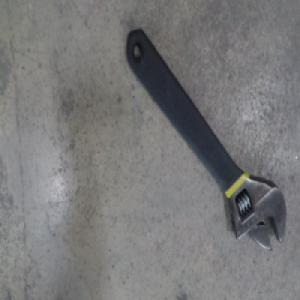AdjustableWrench: (125, 28, 286, 249)
